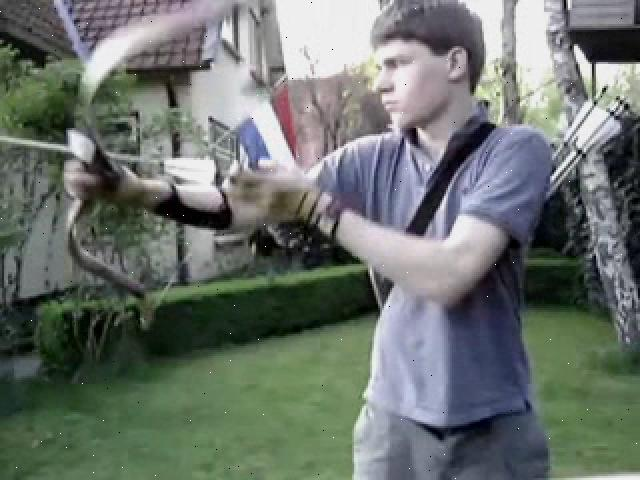P: (69, 3, 554, 474)
